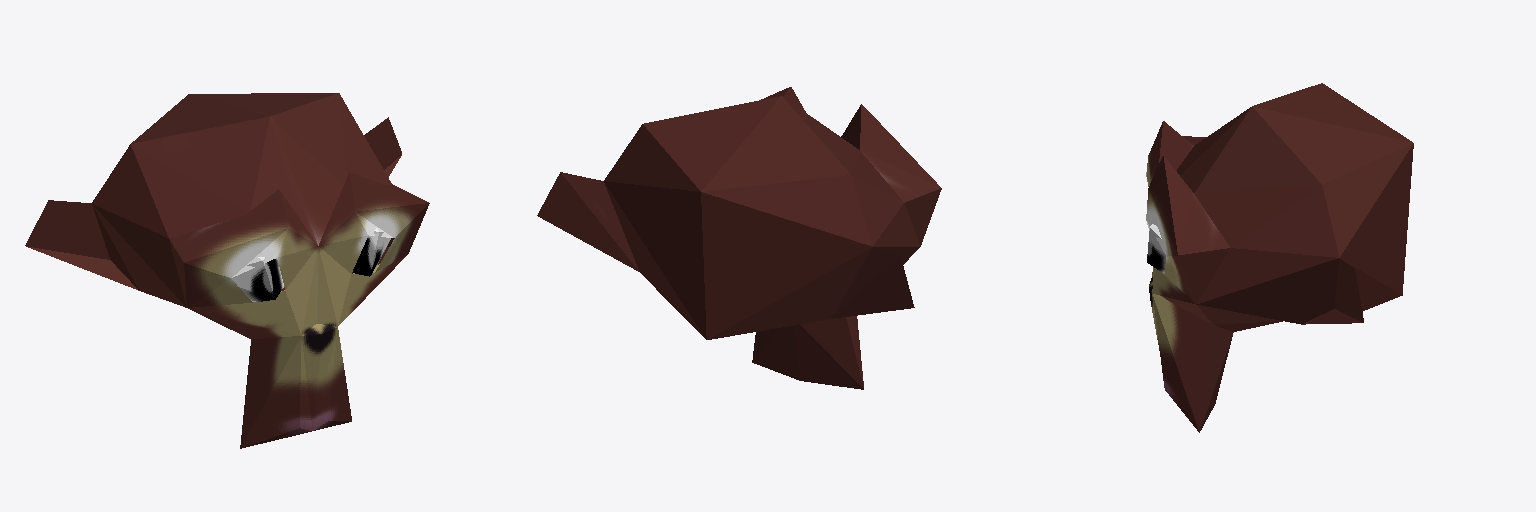
The picture shows the model from 3 angles: view 1: azimuth 30°, elevation 25°; view 2: azimuth 150°, elevation 25°; view 3: azimuth 270°, elevation 25°; orthographic projection.
Parts seen in each view (by area): view 1: Suzanne; view 2: Suzanne; view 3: Suzanne.
Part boxes in pixels (x1,y1,x2,y2): Suzanne: (25,93,429,448); Suzanne: (537,87,941,389); Suzanne: (1146,83,1413,432).
Bounding box in the file's own units: 2.56 × 1.94 × 1.57.
Materials: 1 (1 with a texture image).